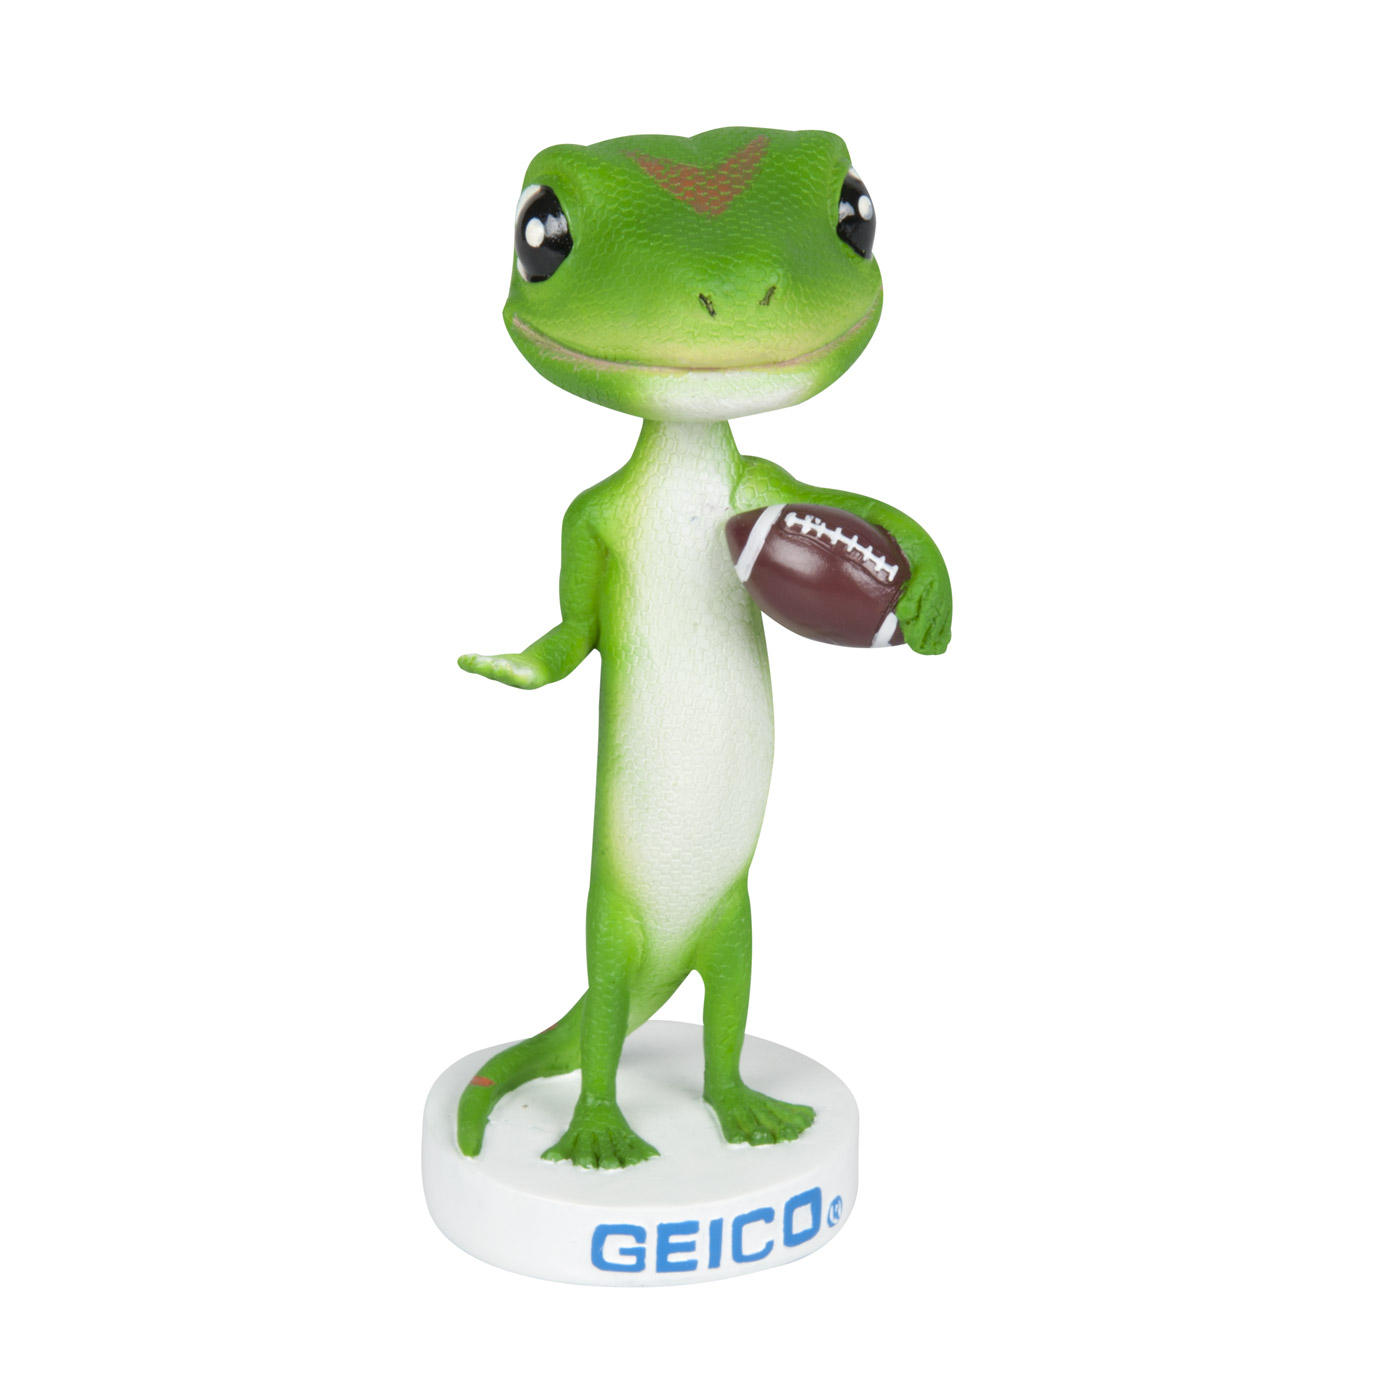geico: (571, 1181, 844, 1276)
